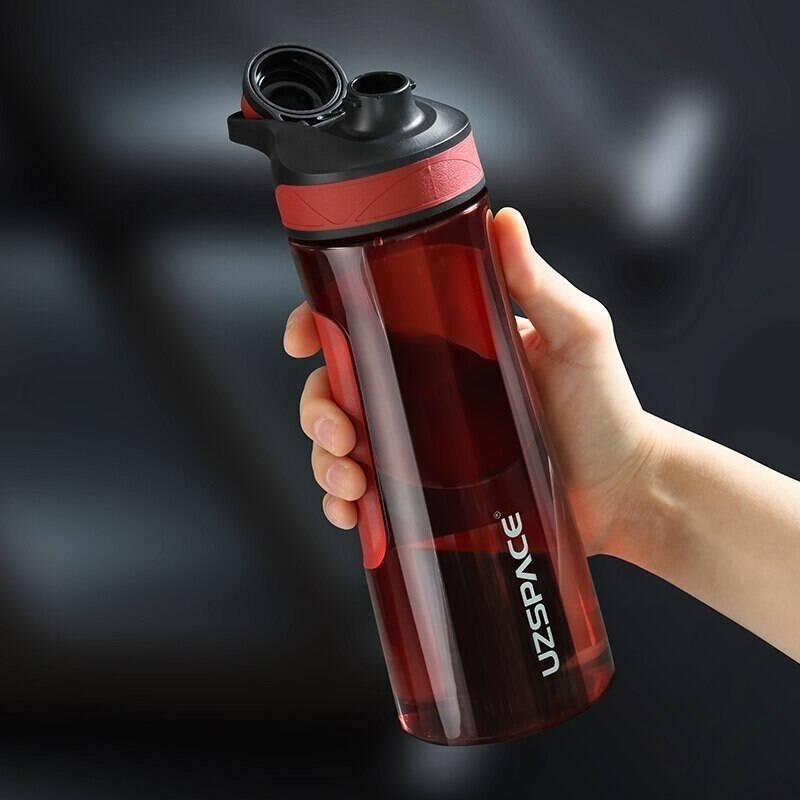gym bottle: (225, 42, 618, 746)
